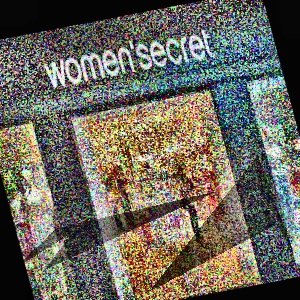women_secret: (173, 7, 248, 45)
